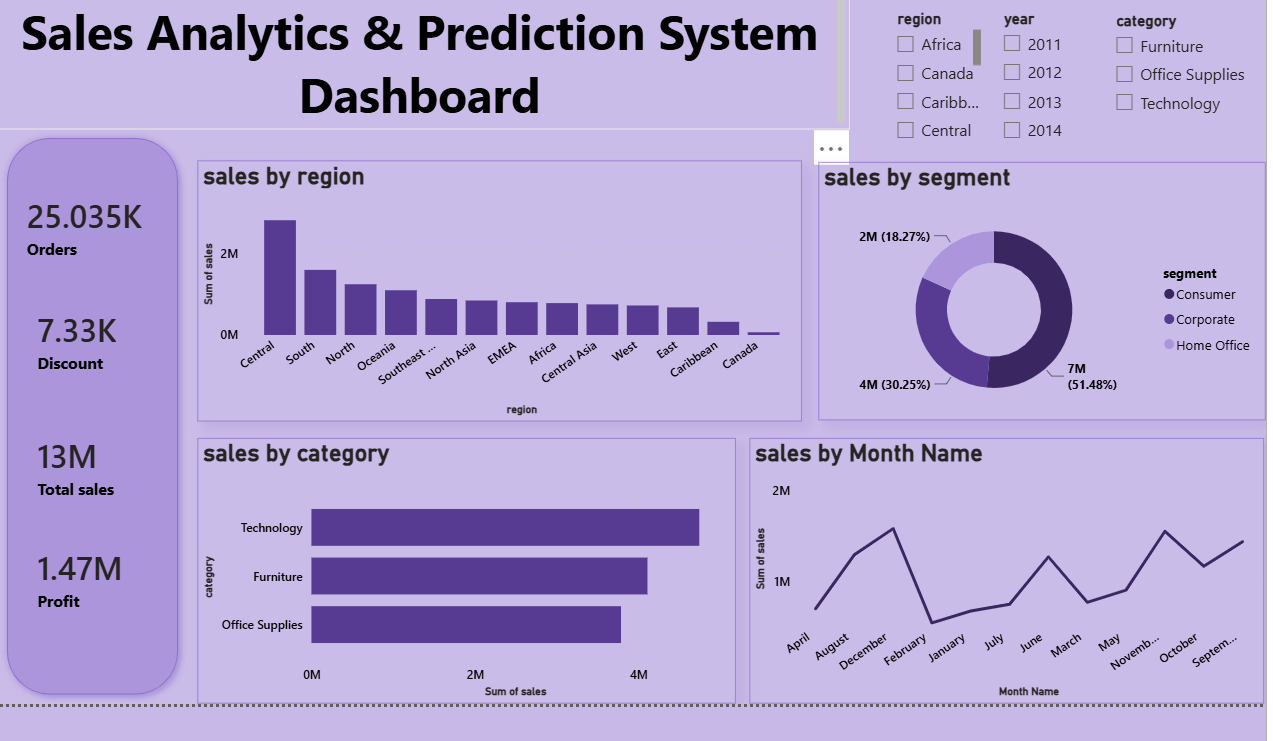

What the dashboard file says about the page in this screenshot:
{"tool":"powerbi","page":{"name":"Sales_overview","canvas":[1280,720],"ordinal":0},"visuals":[{"type":"textbox","box":[0,1.6,859.4,137.5],"z":0},{"type":"lineChart","title":"Sales by Month Name","fields":{"Category":["Cleaned_Sales_data.Month Name"],"Y":["Sum(Cleaned_Sales_data.sales)"]},"box":[758.6,451.2,519.4,268],"z":1000},{"type":"clusteredBarChart","title":" Sales by Category","fields":{"Category":["Cleaned_Sales_data.category"],"Y":["Sum(Cleaned_Sales_data.sales)"]},"box":[201.4,451.2,543.6,268],"z":2000},{"type":"columnChart","title":"Sales by Region","fields":{"Category":["Cleaned_Sales_data.region"],"Y":["Sum(Cleaned_Sales_data.sales)"]},"box":[201.4,171.1,610.2,263.5],"z":3000},{"type":"donutChart","title":" Sales by Segment","fields":{"Category":["Cleaned_Sales_data.segment"],"Y":["Sum(Cleaned_Sales_data.sales)"]},"box":[828.3,172.6,451.2,260.4],"z":4000},{"type":"slicer","fields":{"Values":["Cleaned_Sales_data.region"]},"box":[894.9,13.6,102,147.4],"z":5000},{"type":"shape","box":[0,139.3,190.8,579.9],"z":6000},{"type":"cardVisual","fields":{"Data":["Sum(Cleaned_Sales_data.discount)"]},"box":[10.6,289.2,190.9,126.6],"z":7000},{"type":"cardVisual","fields":{"Data":["Sum(Cleaned_Sales_data.sales)"]},"box":[10.6,416.4,190.9,126.6],"z":8000},{"type":"cardVisual","fields":{"Data":["Count(Cleaned_Sales_data.order_id)"]},"box":[0,174.1,190.9,126.6],"z":9000},{"type":"cardVisual","fields":{"Data":["Sum(Cleaned_Sales_data.profit)"]},"box":[10.6,530,190.9,126.6],"z":10000},{"type":"slicer","fields":{"Values":["Cleaned_Sales_data.year"]},"box":[1002.4,13.6,102,147.4],"z":11000},{"type":"slicer","fields":{"Values":["Cleaned_Sales_data.category"]},"box":[1116,15.1,162,146.9],"z":12000}]}

Visuals, with their boxes on the page's 1280x720 design canvas (x1, y1, x2, y2). These are canvas units, not pixel positions in the 1273x741 screenshot, which may show the page scaled, cropped or inside an application window:
textbox: <region>0, 2, 859, 139</region>
"Sales by Month Name" lineChart: <region>759, 451, 1278, 719</region>
" Sales by Category" clusteredBarChart: <region>201, 451, 745, 719</region>
"Sales by Region" columnChart: <region>201, 171, 812, 435</region>
" Sales by Segment" donutChart: <region>828, 173, 1280, 433</region>
slicer - Cleaned_Sales_data.region: <region>895, 14, 997, 161</region>
shape: <region>0, 139, 191, 719</region>
cardVisual - Sum(Cleaned_Sales_data.discount): <region>11, 289, 202, 416</region>
cardVisual - Sum(Cleaned_Sales_data.sales): <region>11, 416, 202, 543</region>
cardVisual - Count(Cleaned_Sales_data.order_id): <region>0, 174, 191, 301</region>
cardVisual - Sum(Cleaned_Sales_data.profit): <region>11, 530, 202, 657</region>
slicer - Cleaned_Sales_data.year: <region>1002, 14, 1104, 161</region>
slicer - Cleaned_Sales_data.category: <region>1116, 15, 1278, 162</region>
